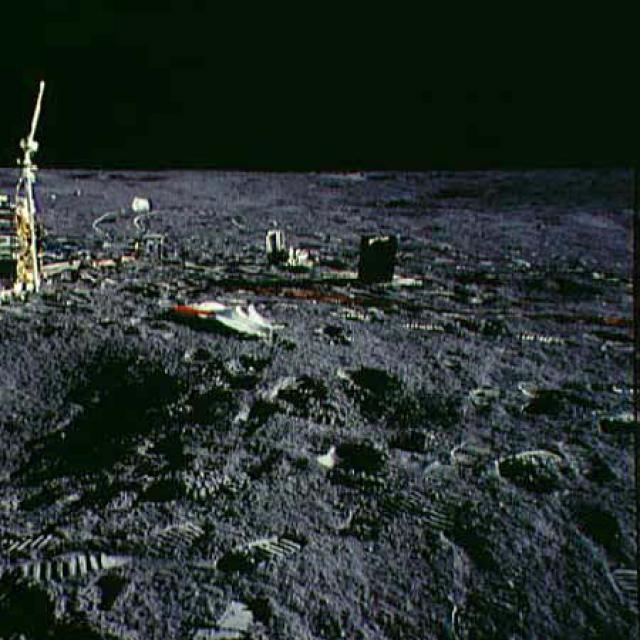crater: (0, 296, 209, 553)
